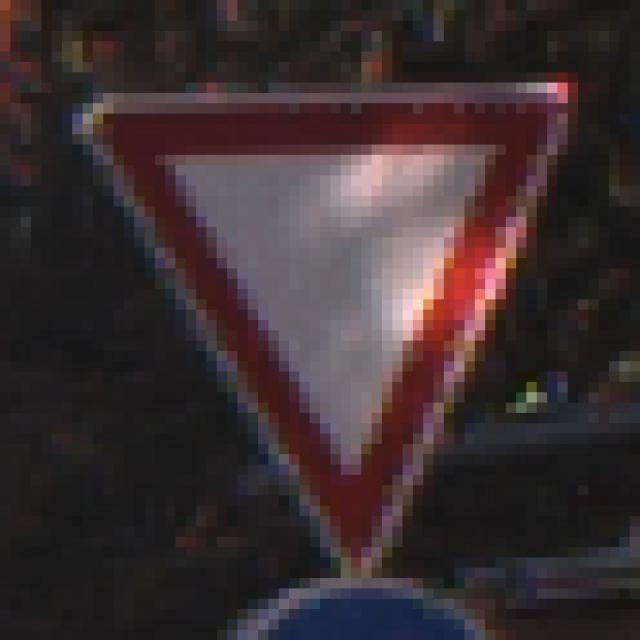Give Way: (53, 53, 590, 590)
